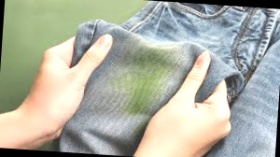earth: (126, 48, 165, 109)
